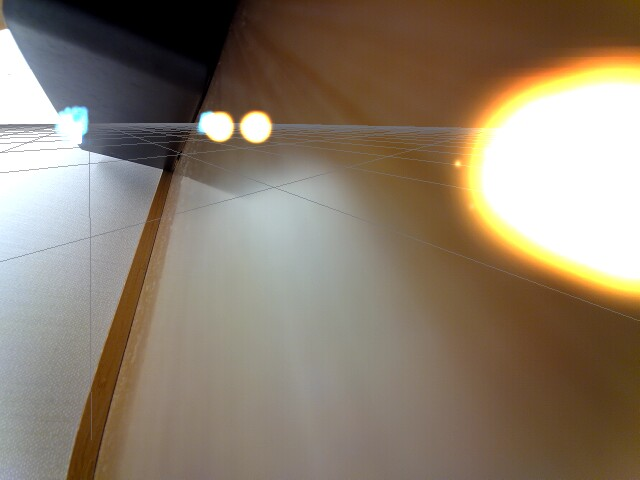firebig: (457, 47, 640, 312)
